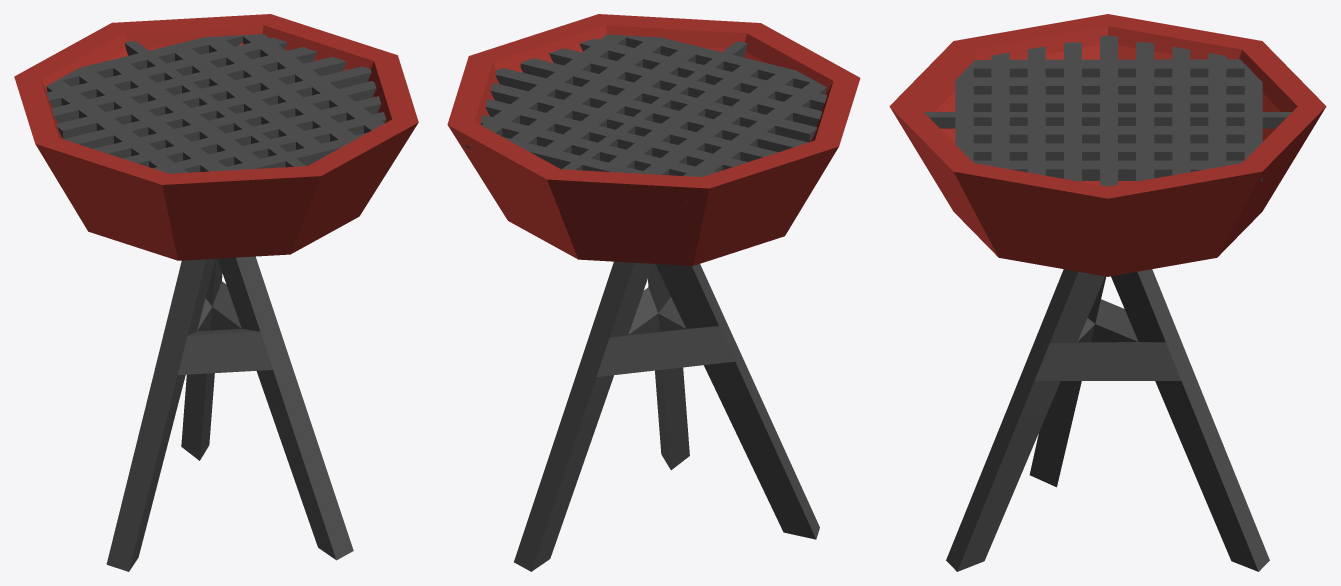
The model's file is Grill_Small_Open.fbx.
3 renders of one model, left to right at view 1: azimuth 30°, elevation 25°; view 2: azimuth 150°, elevation 25°; view 3: azimuth 270°, elevation 25°, orthographic. The views are drawn at different scales.
Parts seen in each view (by area): view 1: small grill, grill griller; view 2: small grill, grill griller; view 3: small grill, grill griller.
Boxes of the visible parts, left/top/right/bottom form: small grill: left=14, top=14, right=418, bottom=571; grill griller: left=46, top=34, right=386, bottom=173; small grill: left=447, top=14, right=860, bottom=571; grill griller: left=466, top=34, right=827, bottom=201; small grill: left=889, top=14, right=1326, bottom=571; grill griller: left=924, top=35, right=1291, bottom=186.
Size of the model in its own units: 1150 by 1258 by 1150.
